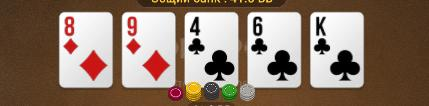4c: (185, 12, 238, 85)
6c: (248, 13, 301, 88)
8d: (59, 12, 112, 88)
9d: (122, 13, 174, 87)
Kc: (311, 12, 364, 88)
